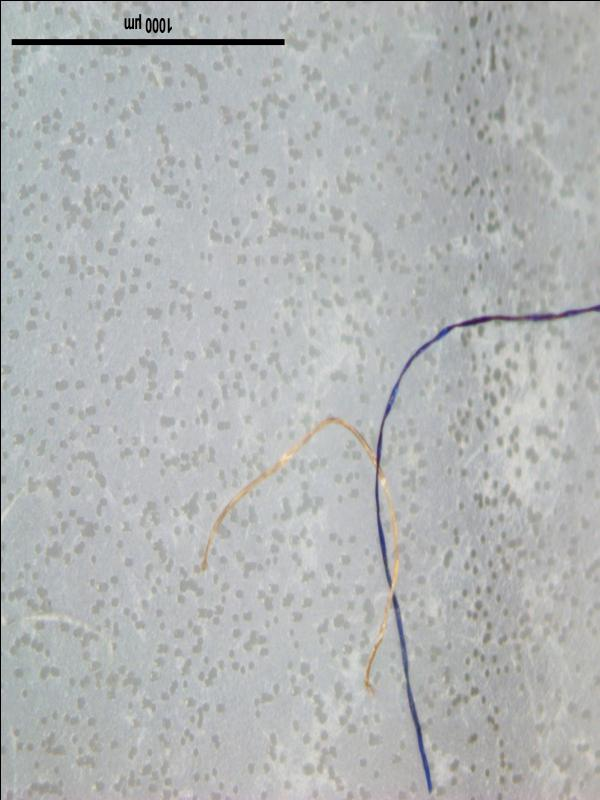microplastic: (200, 300, 600, 796)
